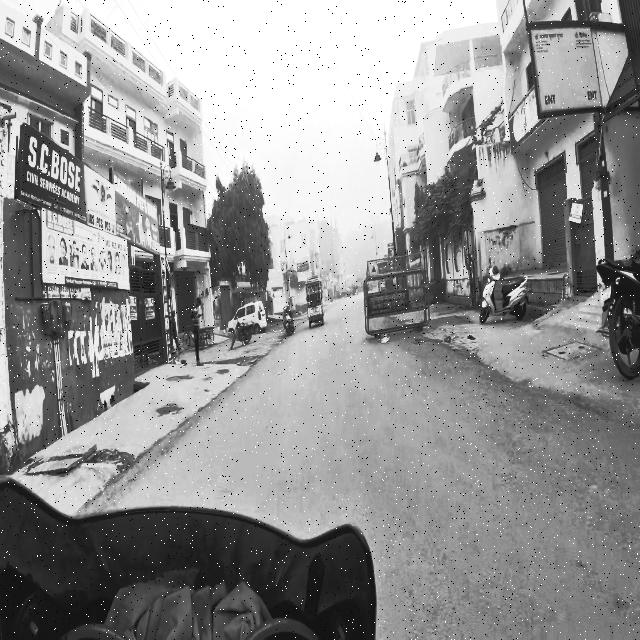Toto: (302, 266, 330, 336)
